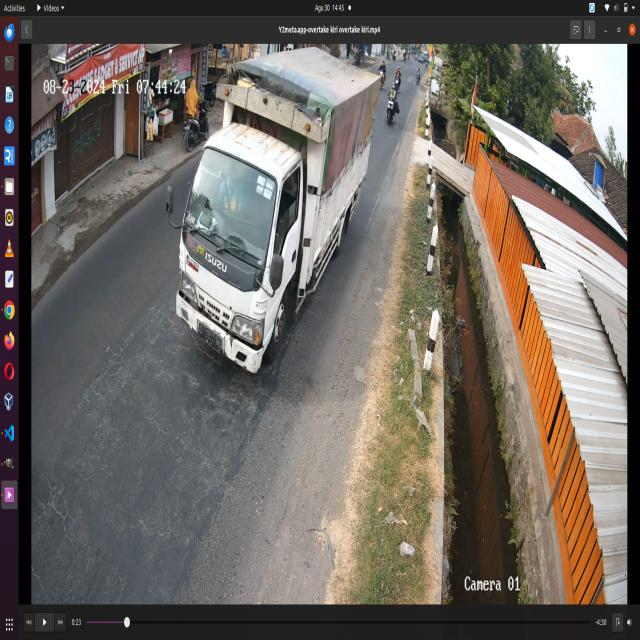person_with_seatbelt: (214, 157, 247, 225)
